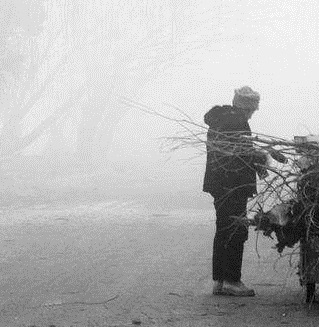person: (197, 84, 272, 297)
